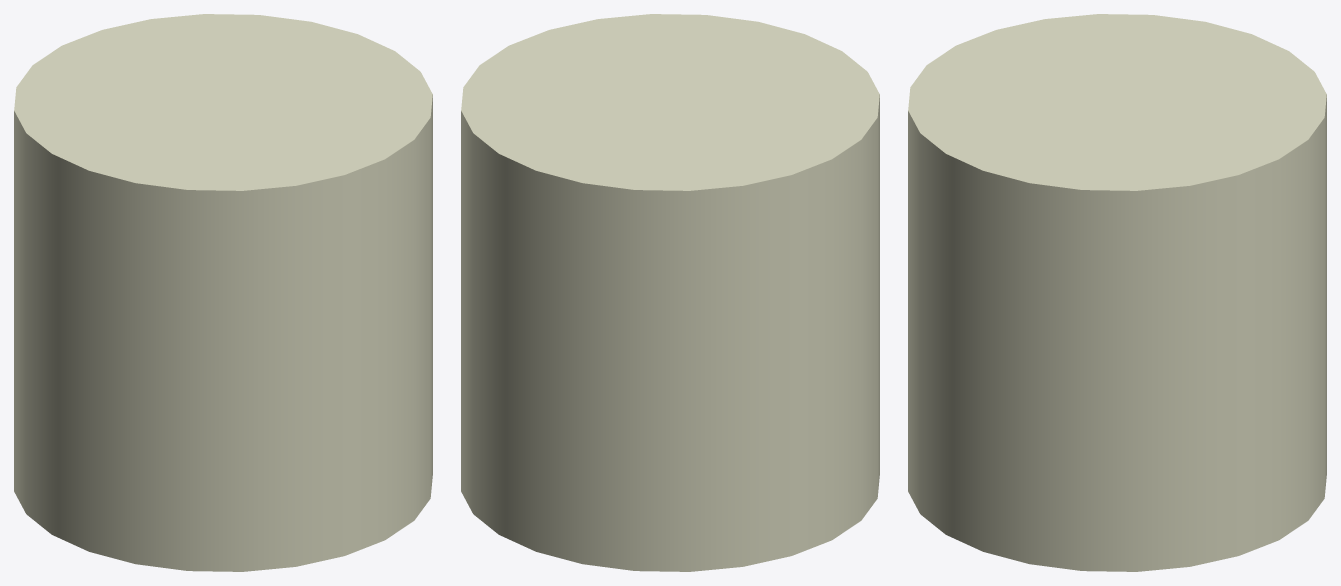
3 views of the same model, side by side, from view 1: azimuth 30°, elevation 25°; view 2: azimuth 150°, elevation 25°; view 3: azimuth 270°, elevation 25° (orthographic).
Visible parts, largest first — view 1: SketchUp; view 2: SketchUp; view 3: SketchUp.
Part boxes in pixels (x1=…): SketchUp: x1=14, y1=14, x2=432, y2=571; SketchUp: x1=461, y1=14, x2=879, y2=571; SketchUp: x1=908, y1=14, x2=1326, y2=571.
Bounding box in the file's own units: 143 × 143 × 144.
